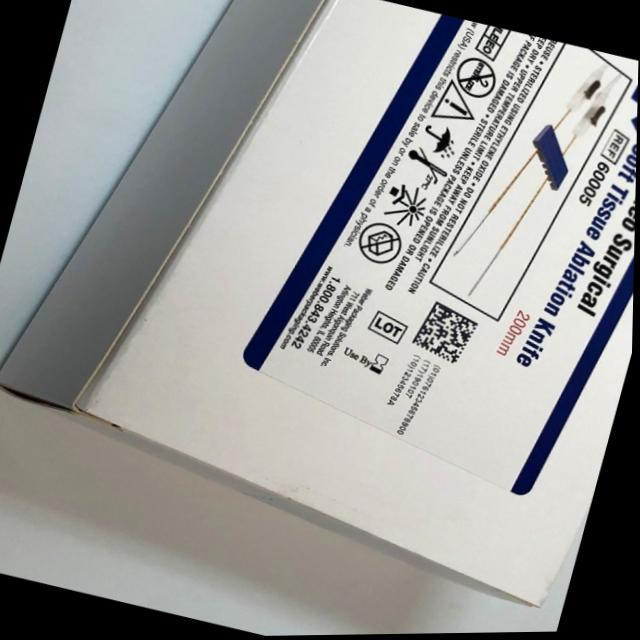datamatrix: (405, 294, 494, 375)
